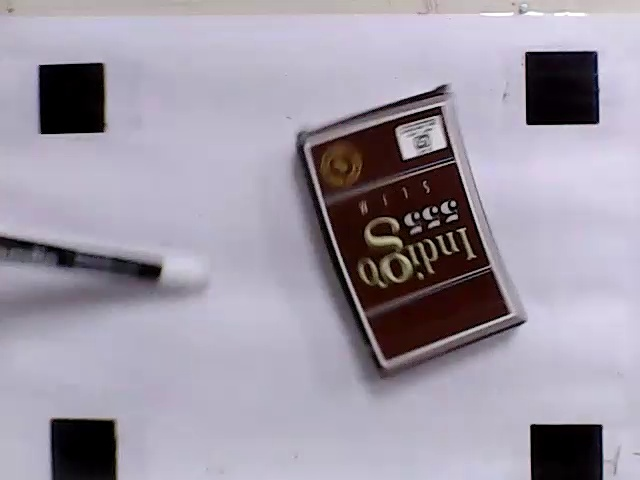BEX: (306, 105, 512, 364)
